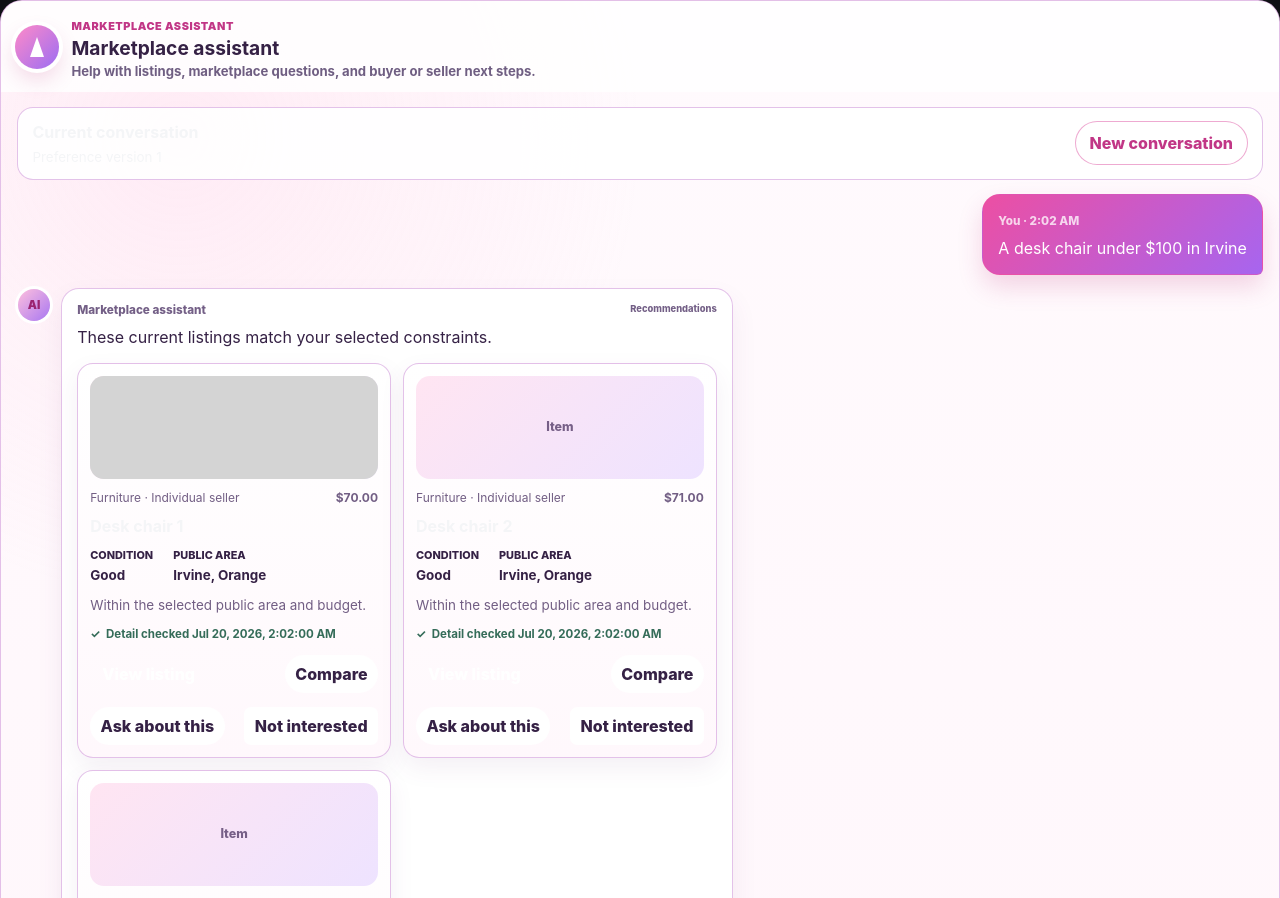
AgentMarketplaceDiscoveryComponent › excludes one recommendation with the exact fixed-reason command
Click the button with class "exclude-button" below "Desk chair 1".
click(311, 726)  # box x1=244 y1=707 x2=378 y2=745
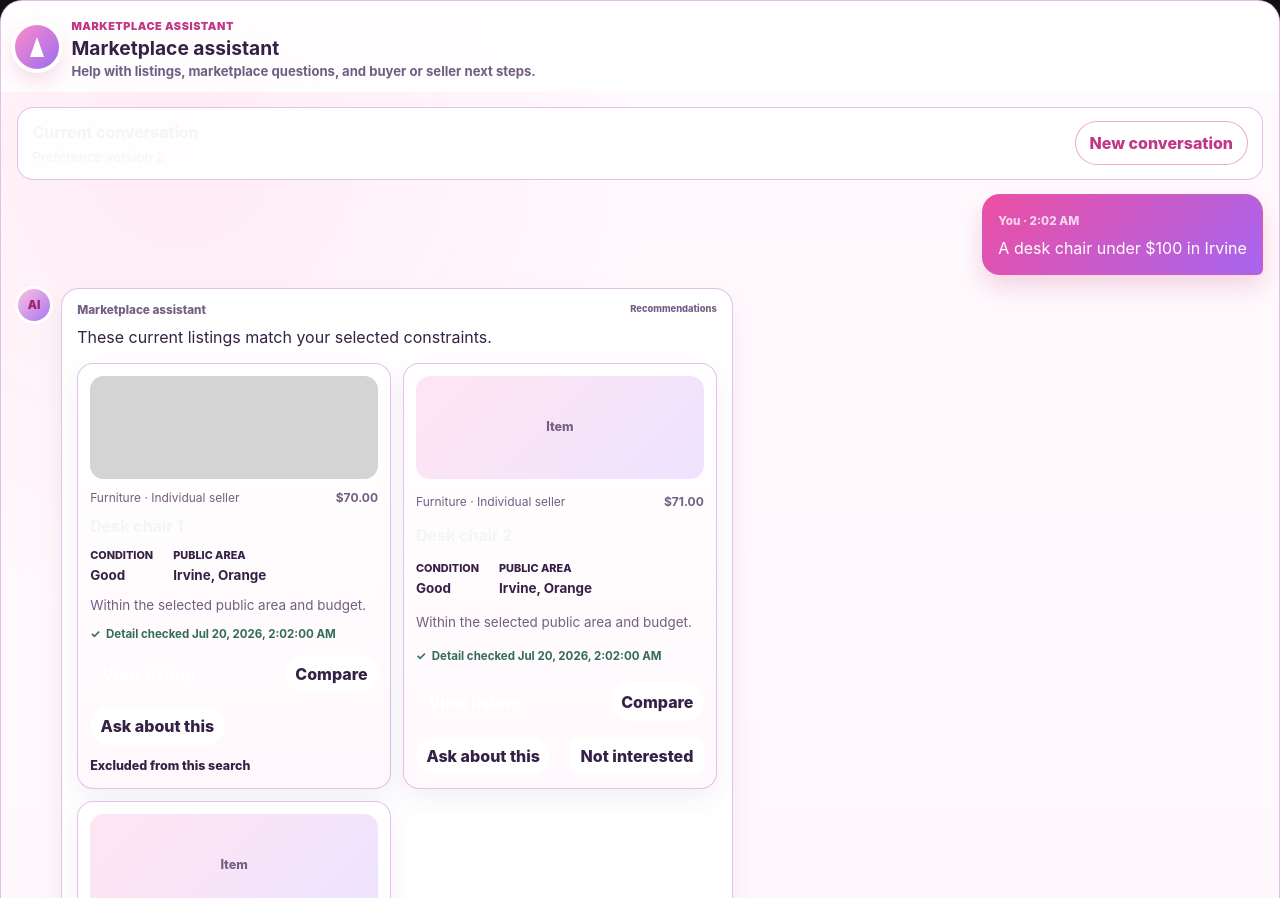
Result: the text "Excluded from this search" is shown at x1=90 y1=757 x2=250 y2=776
